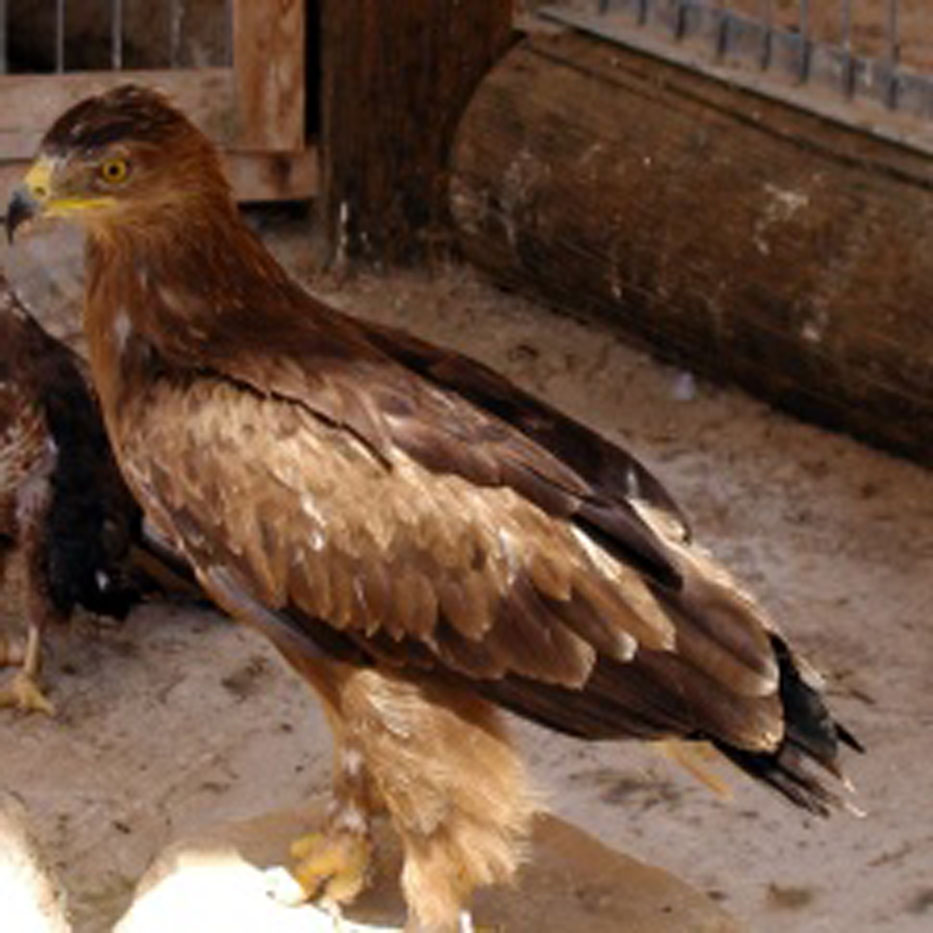Pengoyak Daging: (1, 185, 58, 274)
